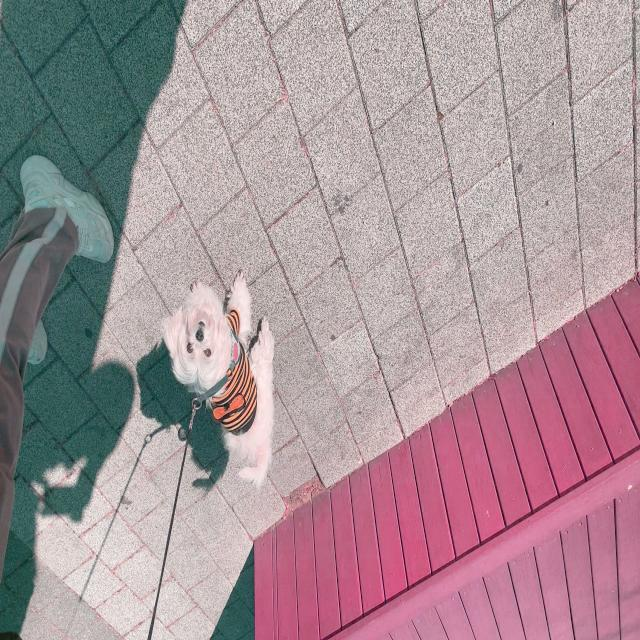Dog: (366, 152, 480, 370)
